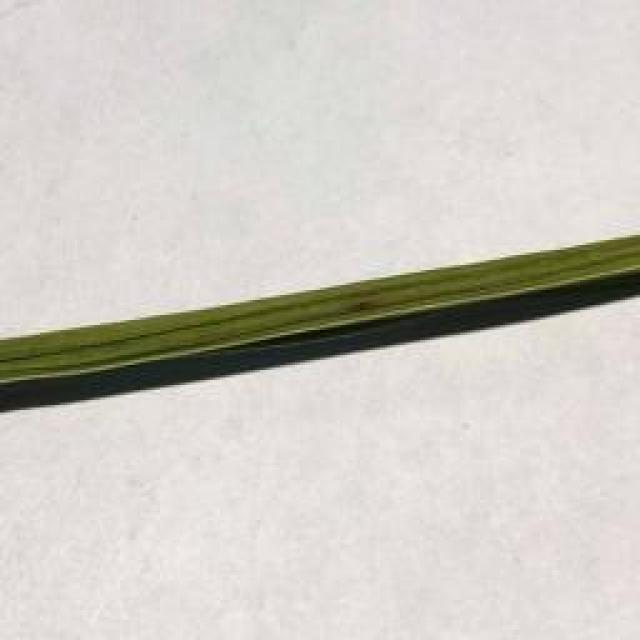Brown_Spot: (334, 296, 388, 318)
